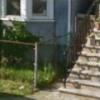stairs: (63, 43, 100, 95)
